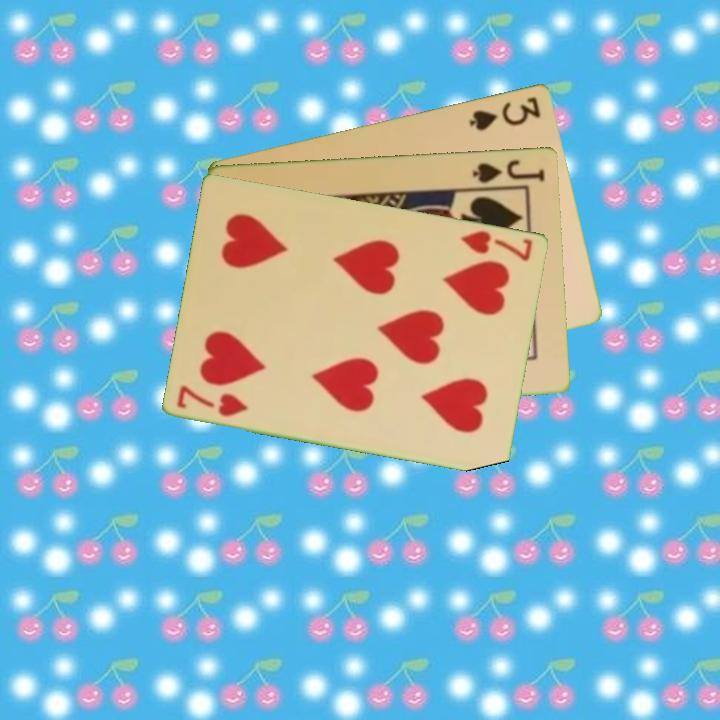3s: (466, 92, 544, 133)
7h: (457, 226, 536, 264), (174, 381, 252, 419)
Js: (469, 156, 549, 186)
